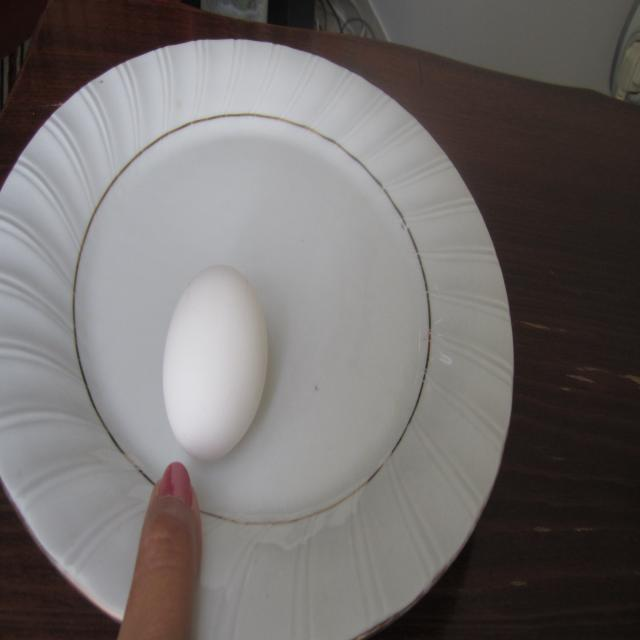egg: (156, 262, 272, 472)
